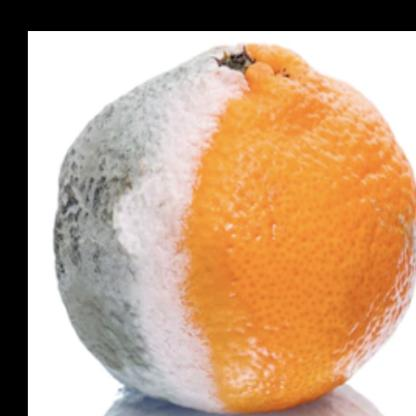rotten: (49, 43, 416, 416)
